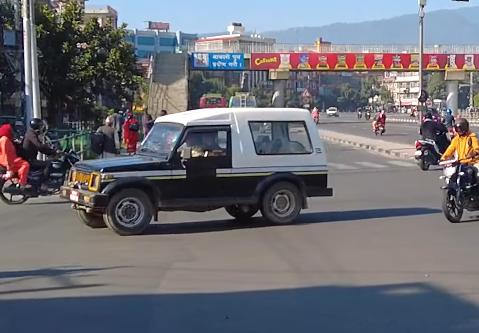SUV: (55, 95, 340, 242)
bike: (436, 147, 479, 223)
